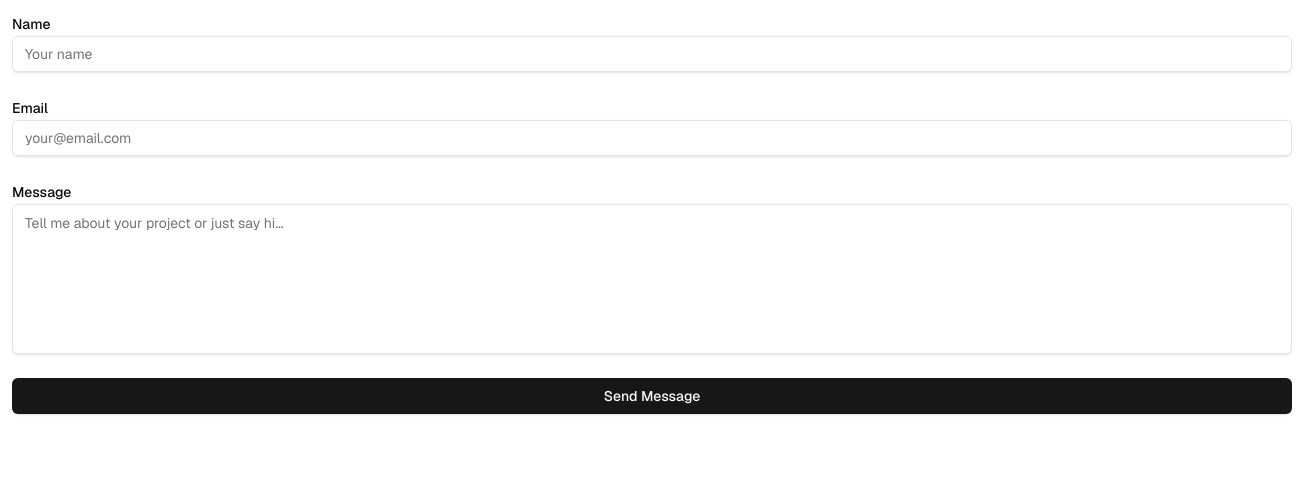
Test: ContactForm › should display error message on submission failure
# Fill out form
Type "John Doe" into the field labelled "Name" at (652, 54), box [12,36,1292,72]
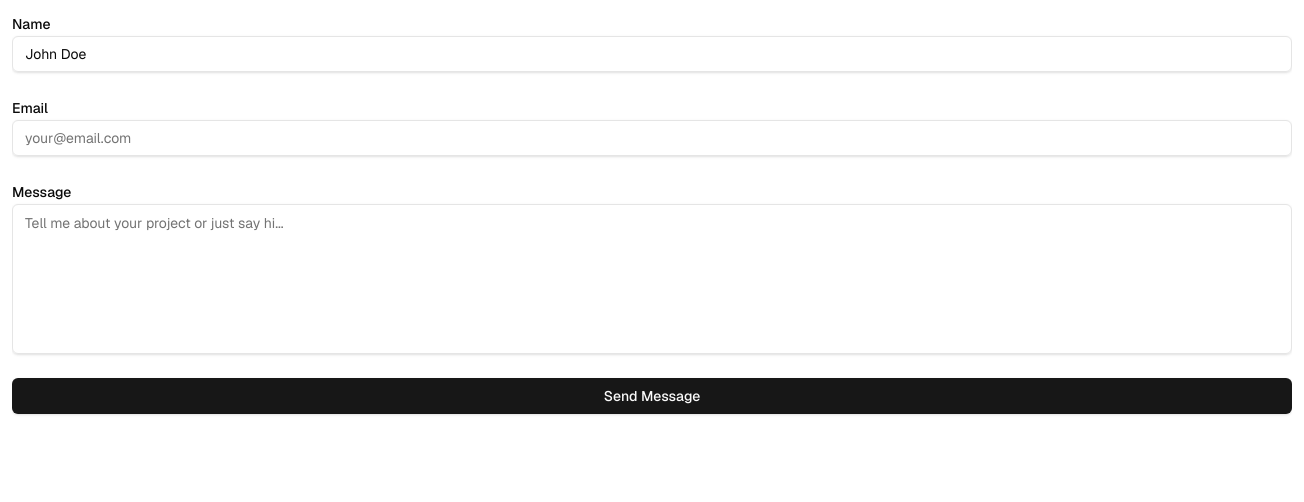
Type "john@example.com" into the field labelled "Email" at (652, 138), box [12,120,1292,156]
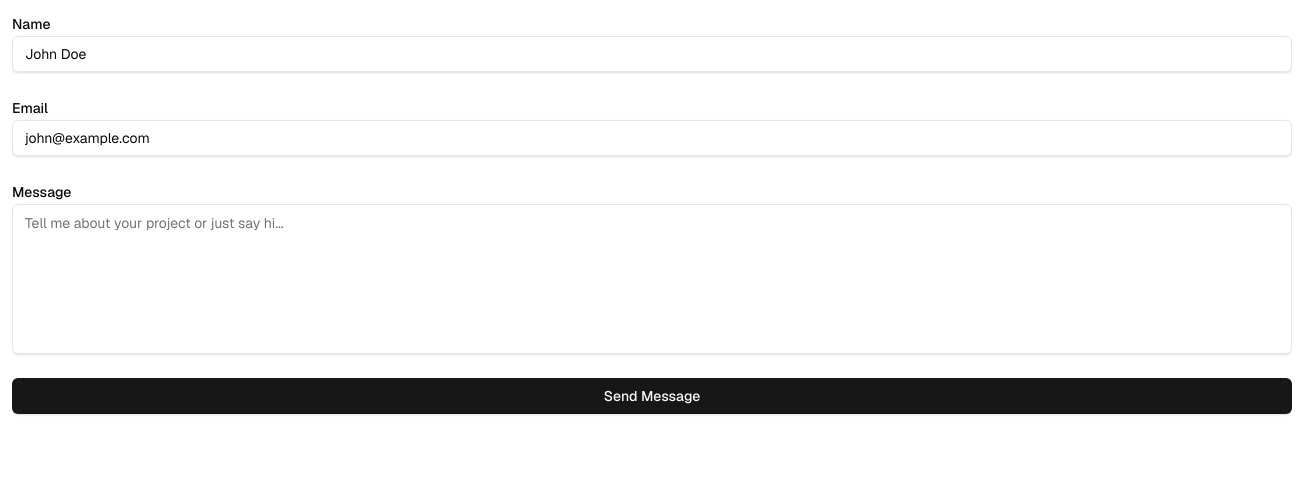
Type "This is a test message" into the text box labelled "Message" at (652, 279), box [12,204,1292,354]
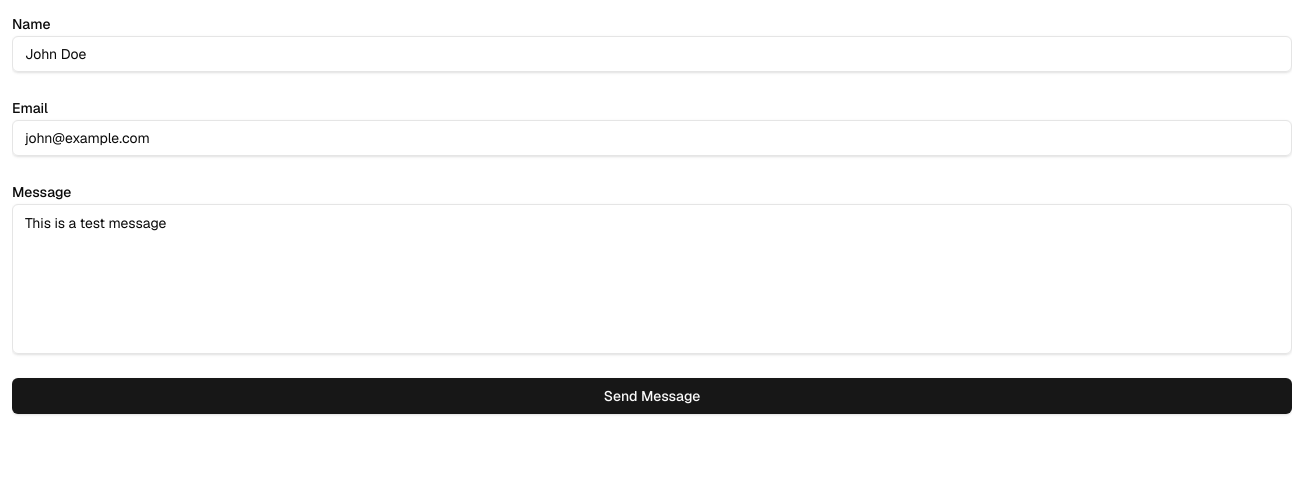
Click the button "Send Message" at (652, 396), box [12,378,1292,414]
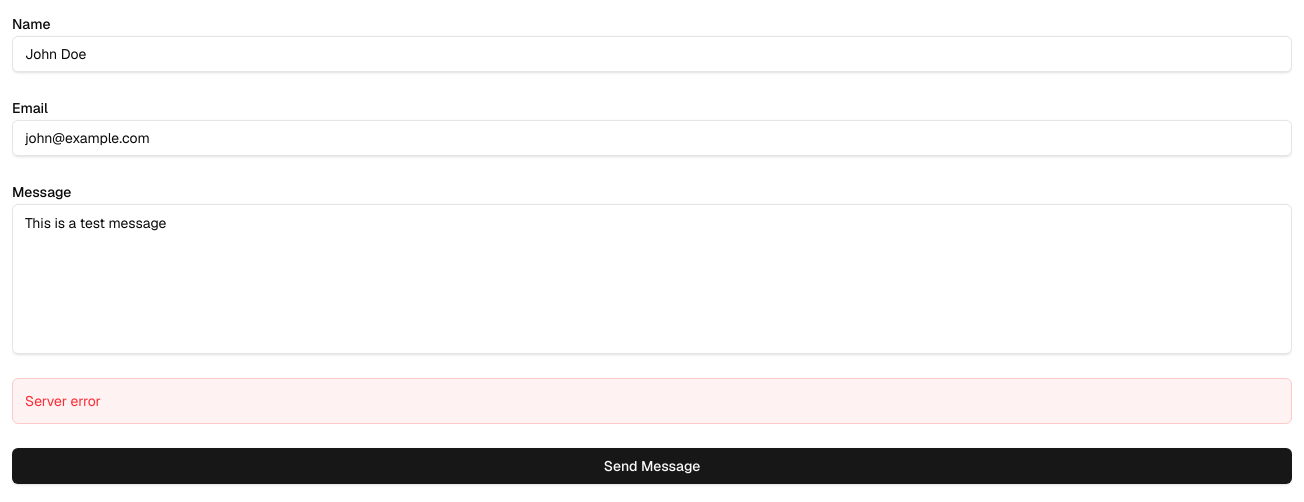
Now the text "Server error" is shown, box [12,378,1292,424]
